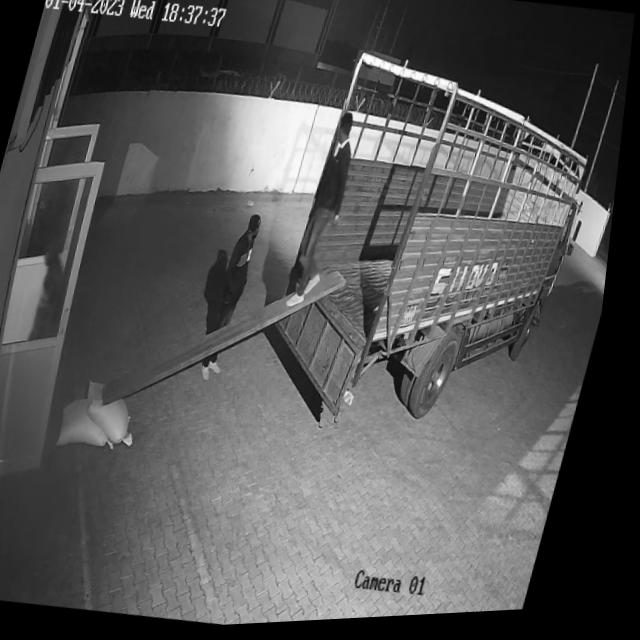sack: (83, 377, 160, 452), (63, 395, 135, 455)
